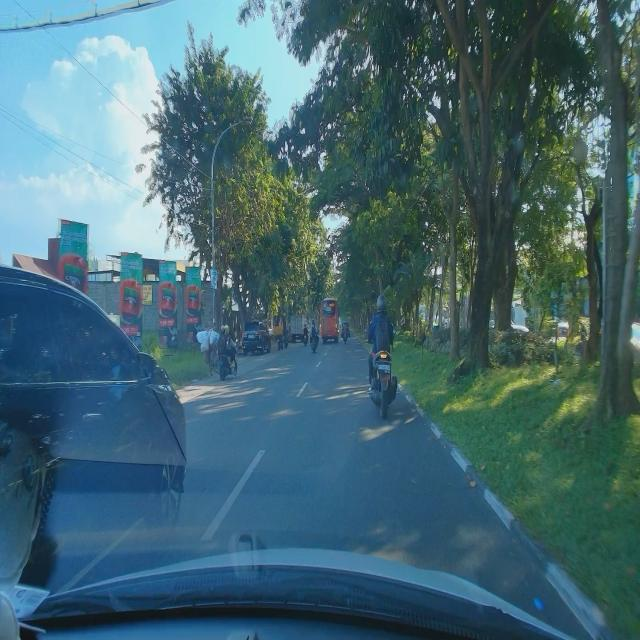bus: (320, 295, 340, 343)
car: (242, 320, 271, 356)
